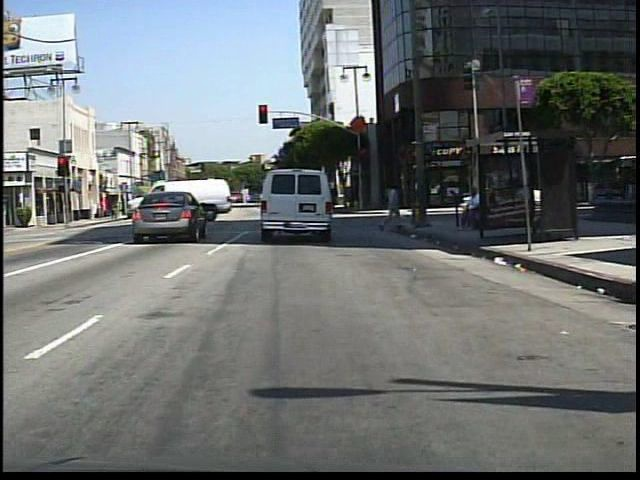person: (378, 179, 405, 235), (459, 186, 484, 235), (135, 193, 150, 218)
